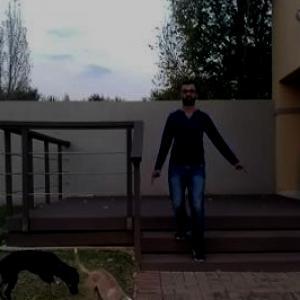land: (146, 86, 235, 250)
